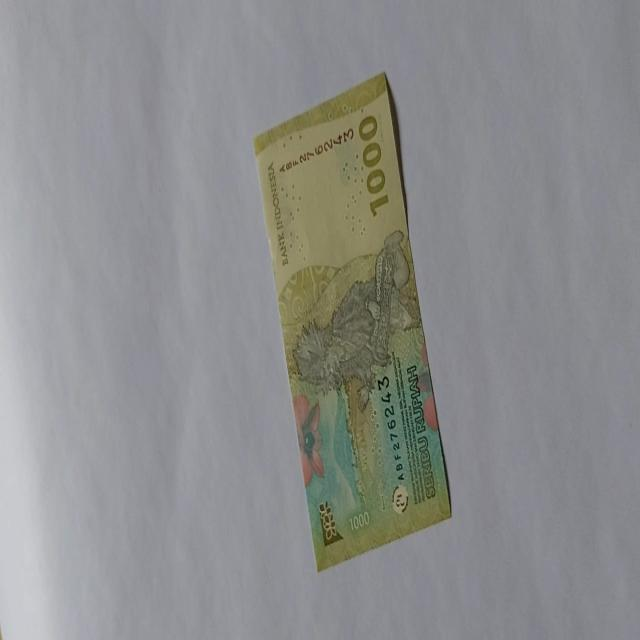seribu rupiah kertas: (252, 71, 452, 572)
